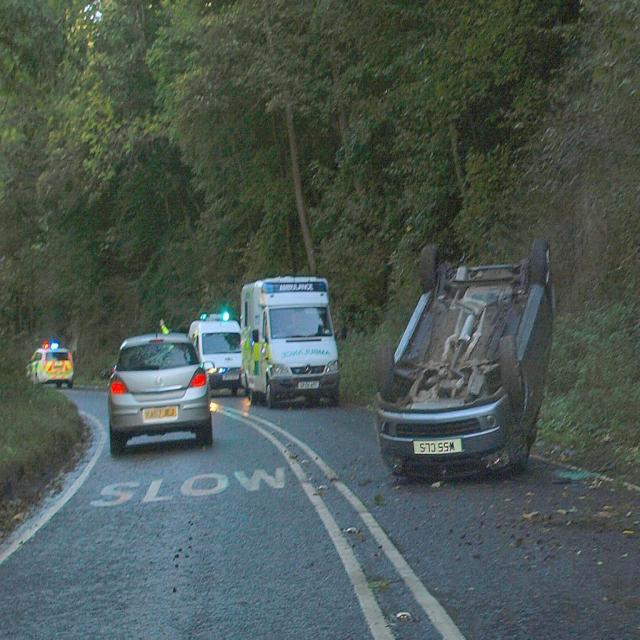Ambulance: (242, 278, 342, 407), (190, 309, 246, 396), (30, 341, 74, 391)
